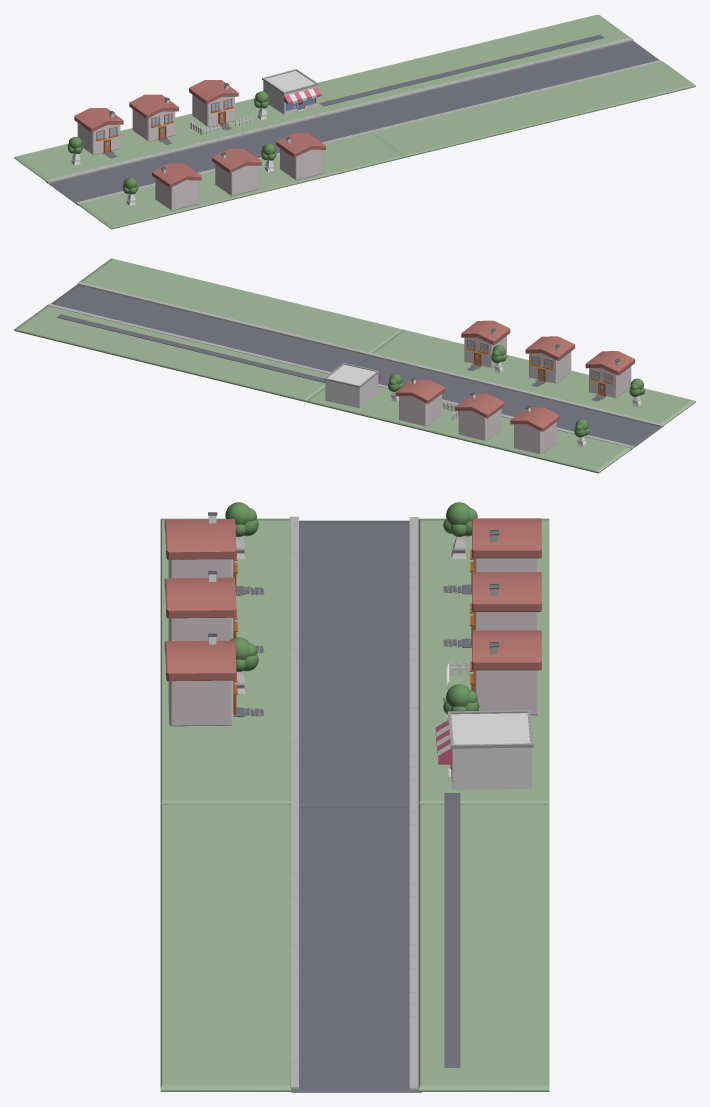
File: yol1.fbx
3 views of the same model, one above another, from view 1: azimuth 30°, elevation 25°; view 2: azimuth 150°, elevation 25°; view 3: azimuth 270°, elevation 25° (orthographic). The views are drawn at different scales.
Parts seen in each view (by area): view 1: lawn4, lawn5, pCube59, lawn1, pCube49, lawn, house1 (×6), roof1 (×6), building2:pCube4, pCube60, sidewalk5, sidewalk2 (+4 smaller); view 2: lawn4, lawn5, pCube59, lawn1, house1 (×6), pCube49, lawn, roof1 (×6), building2:pCube4, pCube60, sidewalk6, sidewalk10 (+4 smaller); view 3: lawn4, lawn5, pCube59, pCube49, lawn1, roof1 (×6), lawn, house1 (×6), building2:pCube4, pCube60, sidewalk9, sidewalk2 (+5 smaller).
Boxes of the visible parts, x1=… form: lawn4: x1=371, y1=61, x2=695, y2=157; lawn5: x1=317, y1=14, x2=630, y2=108; pCube59: x1=341, y1=41, x2=658, y2=131; lawn1: x1=78, y1=133, x2=404, y2=229; pCube49: x1=49, y1=112, x2=366, y2=203; lawn: x1=14, y1=96, x2=338, y2=181; house1 (×6): x1=77, y1=94, x2=322, y2=210; roof1 (×6): x1=74, y1=80, x2=325, y2=188; building2:pCube4: x1=262, y1=69, x2=321, y2=114; pCube60: x1=319, y1=34, x2=604, y2=106; sidewalk5: x1=46, y1=156, x2=146, y2=183; sidewalk2: x1=144, y1=133, x2=244, y2=159; lawn4: x1=78, y1=258, x2=402, y2=352; lawn5: x1=14, y1=305, x2=328, y2=401; pCube59: x1=51, y1=284, x2=368, y2=372; lawn1: x1=372, y1=329, x2=695, y2=425; house1 (×6): x1=399, y1=336, x2=631, y2=454; pCube49: x1=356, y1=356, x2=661, y2=450; lawn: x1=305, y1=386, x2=631, y2=473; roof1 (×6): x1=395, y1=320, x2=634, y2=431; building2:pCube4: x1=324, y1=363, x2=381, y2=408; pCube60: x1=57, y1=314, x2=325, y2=382; sidewalk6: x1=564, y1=400, x2=664, y2=427; sidewalk10: x1=77, y1=282, x2=176, y2=308; lawn4: x1=160, y1=803, x2=291, y2=1091; lawn5: x1=418, y1=803, x2=549, y2=1091; pCube59: x1=291, y1=806, x2=421, y2=1092; pCube49: x1=299, y1=520, x2=409, y2=805; lawn1: x1=160, y1=518, x2=289, y2=803; roof1 (×6): x1=164, y1=518, x2=541, y2=681; lawn: x1=418, y1=518, x2=549, y2=803; house1 (×6): x1=168, y1=558, x2=538, y2=726; building2:pCube4: x1=435, y1=710, x2=533, y2=789; pCube60: x1=444, y1=793, x2=460, y2=1067; sidewalk9: x1=409, y1=992, x2=418, y2=1091; sidewalk2: x1=409, y1=612, x2=418, y2=708.
Size of the model in its own units: 115 by 6.93 by 33.17.
